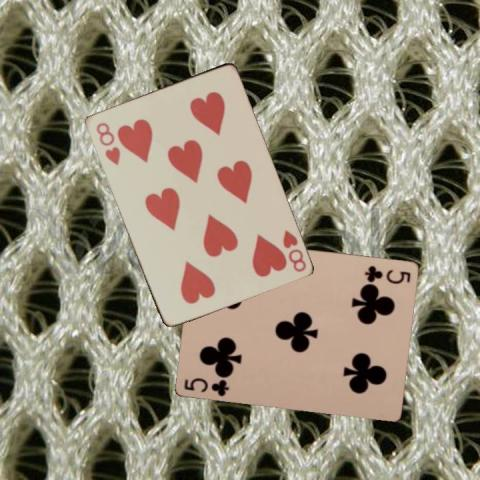5c: (181, 374, 231, 397), (362, 262, 412, 284)
8h: (93, 119, 121, 167), (280, 226, 308, 273)
